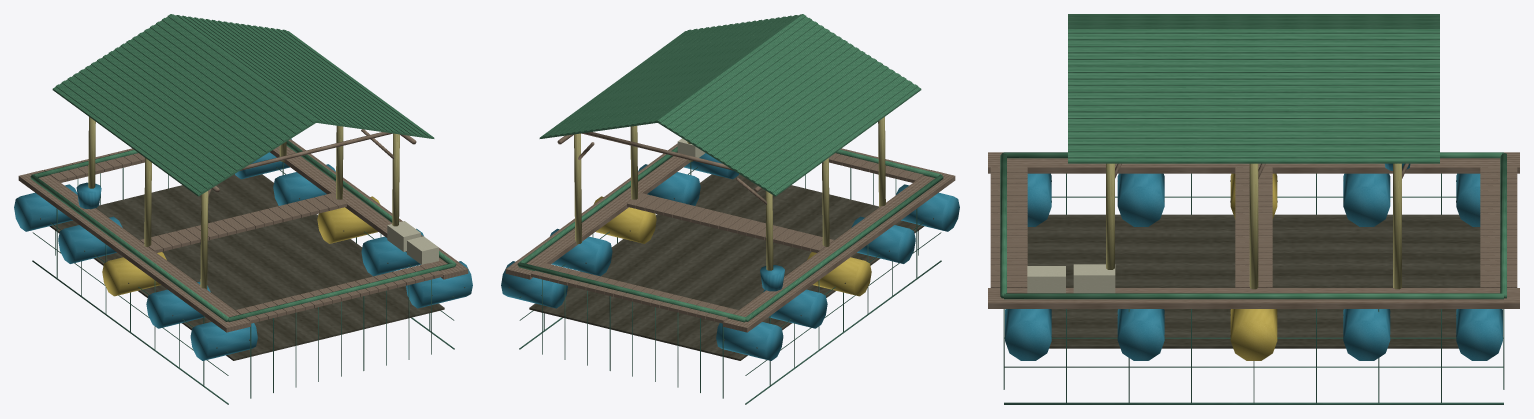
Rendered from bung-raft-1-green.glb.
The picture shows the model from 3 angles, left to right: view 1: azimuth 30°, elevation 25°; view 2: azimuth 150°, elevation 25°; view 3: azimuth 270°, elevation 25°; orthographic projection. The views are drawn at different scales.
Parts seen in each view (by area): view 1: bung-raft-1-green; view 2: bung-raft-1-green; view 3: bung-raft-1-green.
Part boxes in pixels (bbox=[...]): bung-raft-1-green: bbox=[14, 14, 472, 404]; bung-raft-1-green: bbox=[501, 14, 959, 404]; bung-raft-1-green: bbox=[988, 14, 1519, 404].
Bounding box in the file's own units: 4.84 × 4.18 × 6.6.
1 material, 1 textured.
